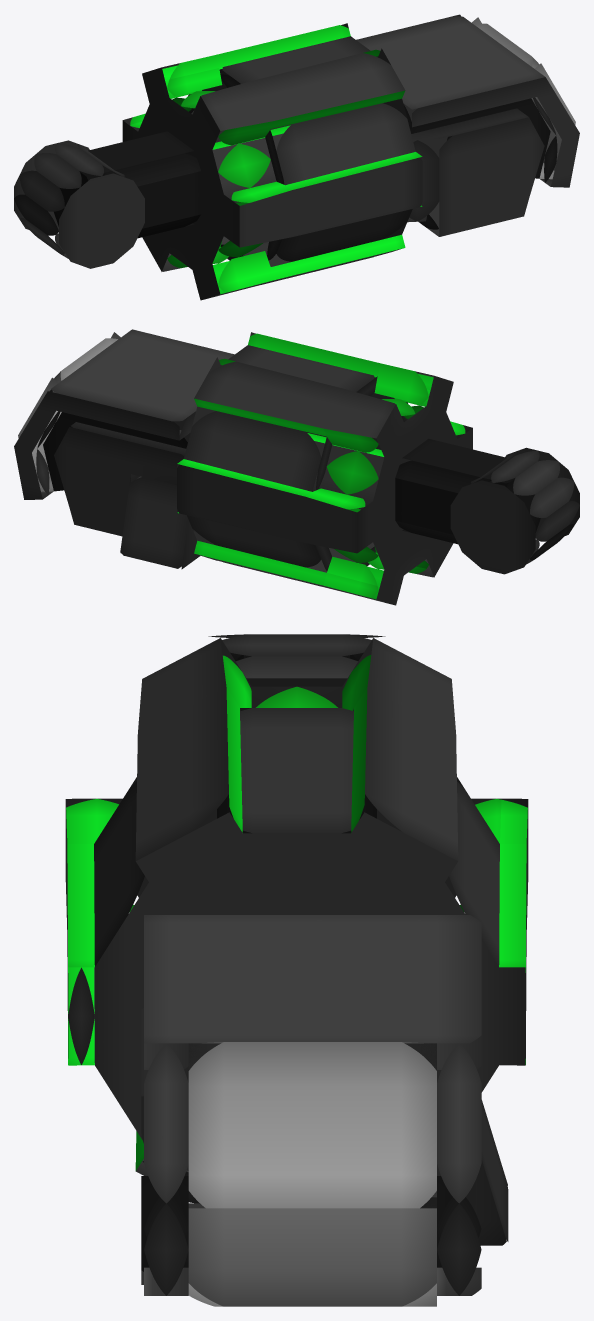
Rendered from RadioVillain_ArmR.obj.
3 views of the same model, one above another, from view 1: azimuth 30°, elevation 25°; view 2: azimuth 150°, elevation 25°; view 3: azimuth 270°, elevation 25° (orthographic). The views are drawn at different scales.
Visible parts, largest first — view 1: cylinder, cuboid, Arm; view 2: cylinder, cuboid, Arm; view 3: cuboid, cylinder, Arm.
Boxes of the visible parts, <box> form: cylinder: <box>14,23,422,300</box>; cuboid: <box>356,14,579,236</box>; Arm: <box>54,131,201,238</box>; cylinder: <box>177,332,579,605</box>; cuboid: <box>14,329,234,569</box>; Arm: <box>395,438,540,544</box>; cuboid: <box>141,915,508,1306</box>; cylinder: <box>65,634,528,1175</box>; Arm: <box>217,654,376,833</box>.
Size of the model in its own units: 0.8193 by 0.3166 by 0.325.
1 material, 1 textured.
